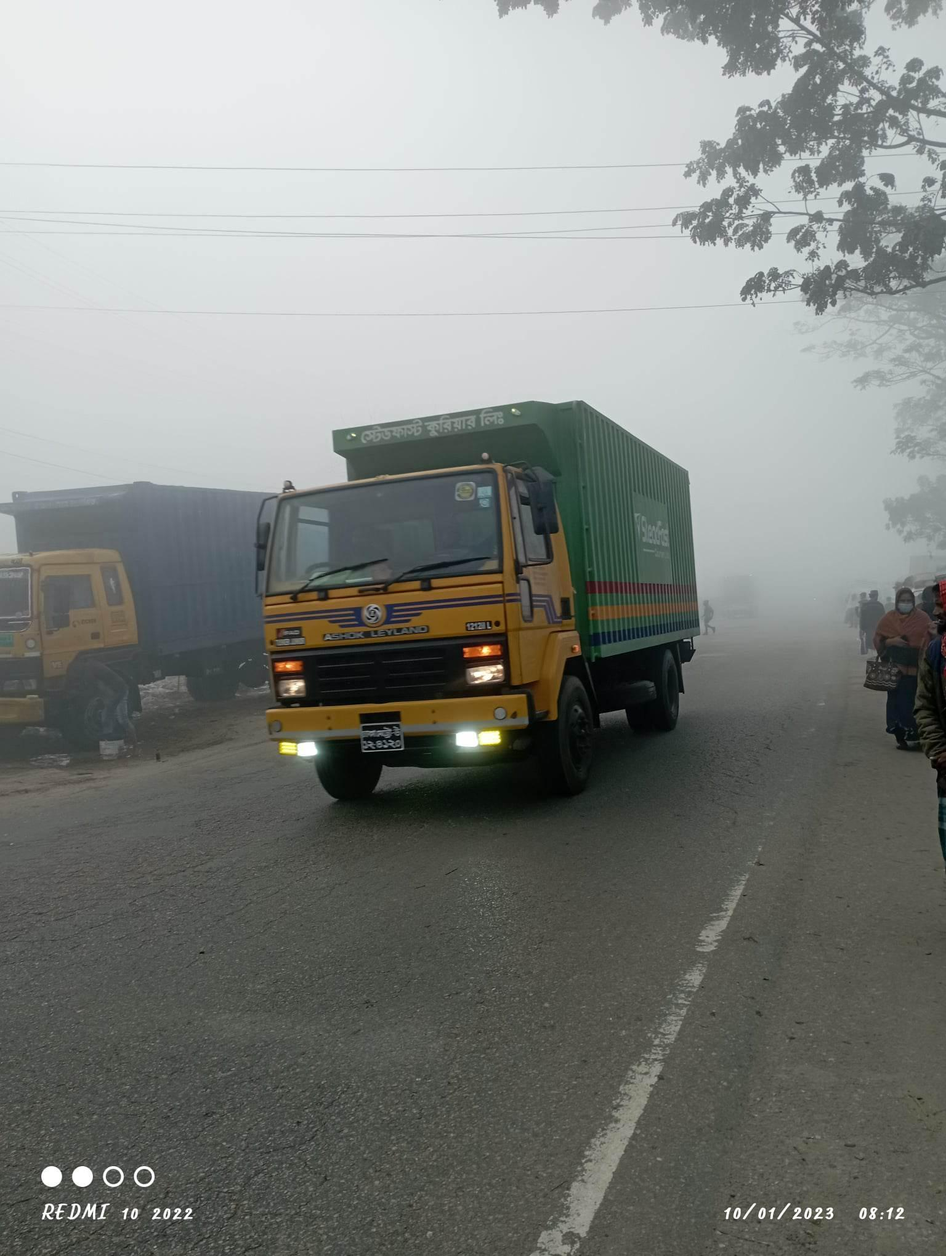Truck: (228, 395, 721, 810), (9, 460, 293, 755)
